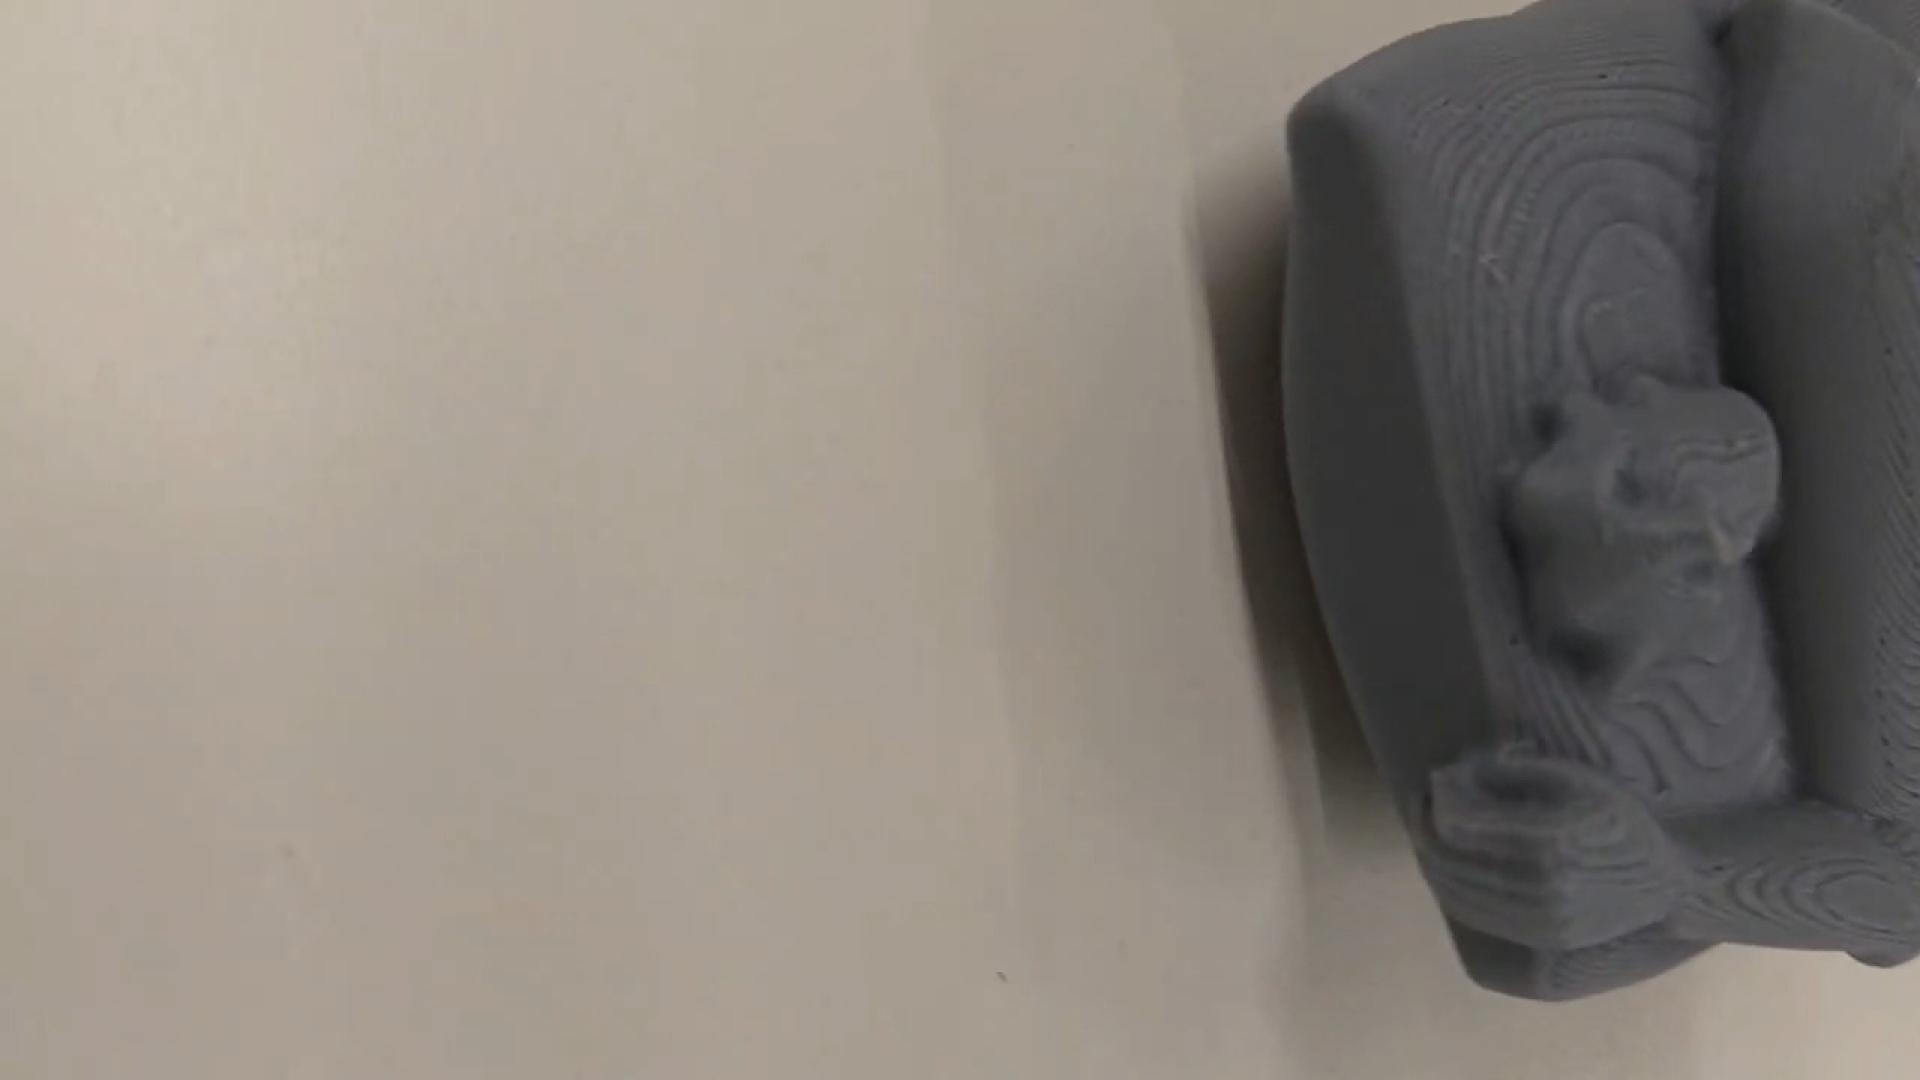Bad-style: (1258, 0, 1919, 992)
